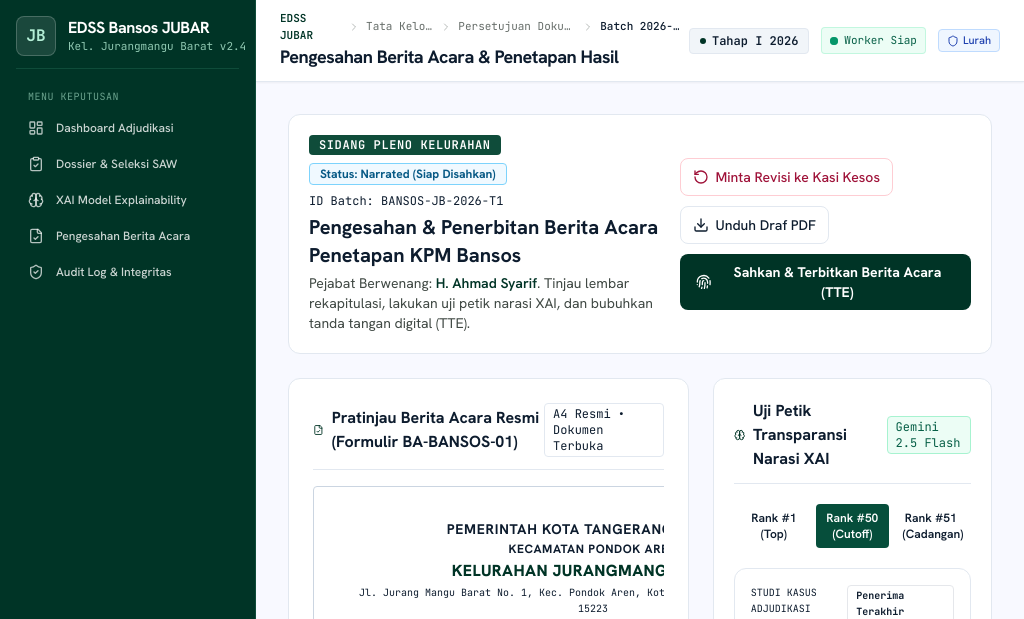
Test: Lurah Approval & Thesis Evaluation Pages (Milestone 5 & 6 UI) › 1. LurahApprovalPage › allows Lurah to sign and approve Berita Acara with feedback toast
The width and height of the screenshot is (1024, 619).
Click the button "Sahkan & Terbitkan Berita Acara (TTE)": (826, 282) x1=680 y1=254 x2=971 y2=310
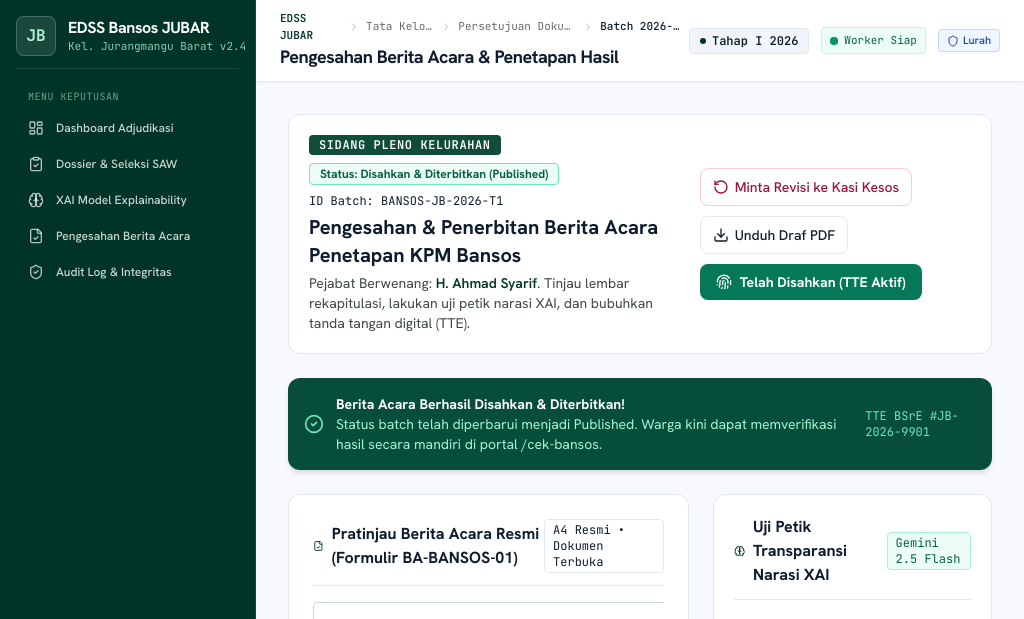
Now the text "Berita Acara Berhasil Disahkan & Diterbitkan!" is shown, box x1=336 y1=395 x2=625 y2=413
